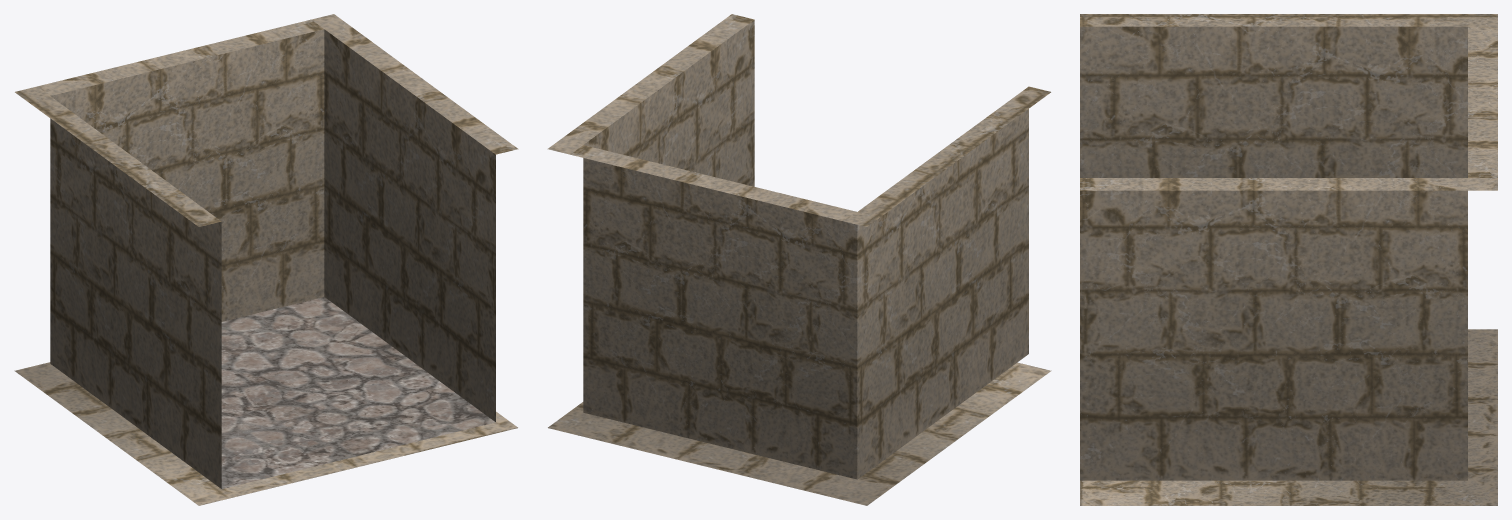
The model's file is ModuleEnd.fbx.
3 renders of one model, left to right at view 1: azimuth 30°, elevation 25°; view 2: azimuth 150°, elevation 25°; view 3: azimuth 270°, elevation 25°, orthographic. The views are drawn at different scales.
Visible parts, largest first — view 1: ModuleEndWalls, ModuleEndFloorTile, ModuleEndFloorEdge; view 2: ModuleEndWalls, ModuleEndFloorEdge; view 3: ModuleEndWalls, ModuleEndFloorEdge.
Part boxes in pixels (x1,y1,x2,y2): ModuleEndWalls: [15, 14, 518, 488]; ModuleEndFloorTile: [221, 297, 495, 488]; ModuleEndFloorEdge: [14, 362, 517, 505]; ModuleEndWalls: [547, 14, 1050, 479]; ModuleEndFloorEdge: [548, 362, 1051, 505]; ModuleEndWalls: [1080, 14, 1497, 480]; ModuleEndFloorEdge: [1080, 329, 1497, 505].
Bounding box in the file's own units: 300 × 250 × 300.
